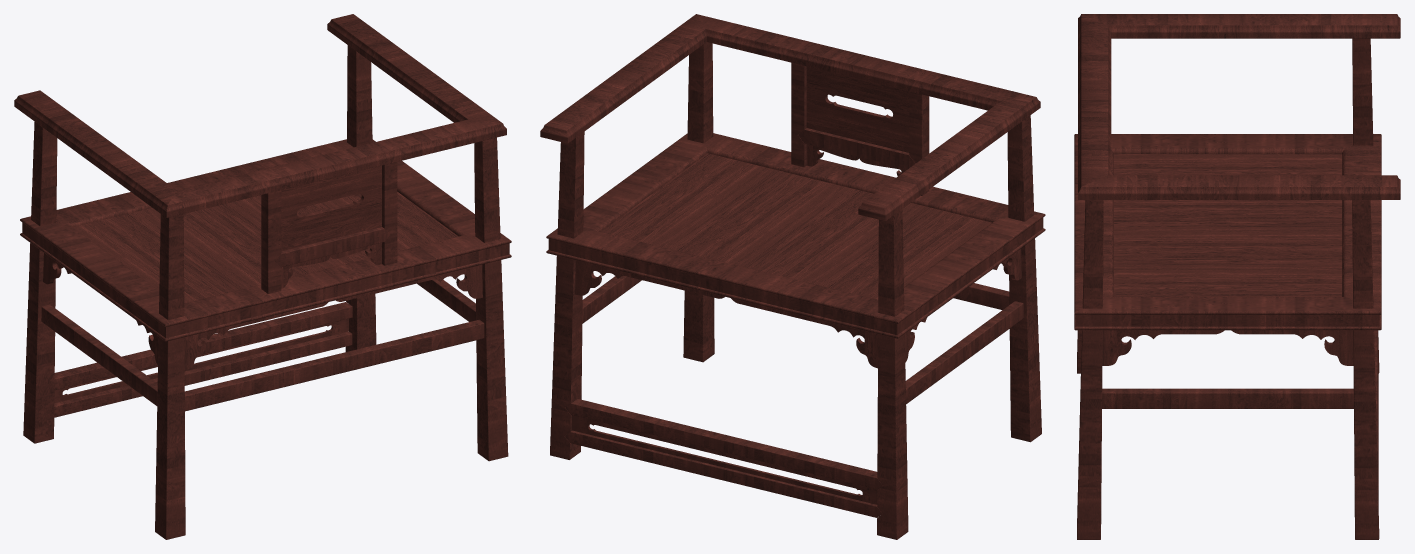
3 renders of one model, left to right at view 1: azimuth 30°, elevation 25°; view 2: azimuth 150°, elevation 25°; view 3: azimuth 270°, elevation 25°, orthographic. The views are drawn at different scales.
Parts seen in each view (by area): view 1: SY-椅子2; view 2: SY-椅子2; view 3: SY-椅子2.
Boxes of the visible parts, <box> form: SY-椅子2: <box>14,14,511,539</box>; SY-椅子2: <box>540,14,1045,539</box>; SY-椅子2: <box>1074,14,1400,539</box>.
Bounding box in the file's own units: 0.699 × 0.5396 × 0.6416.
